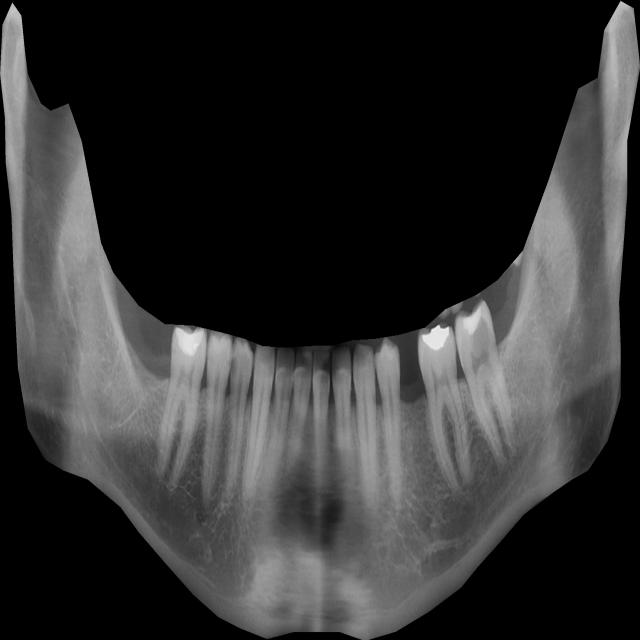mandibula: (0, 1, 640, 640)
